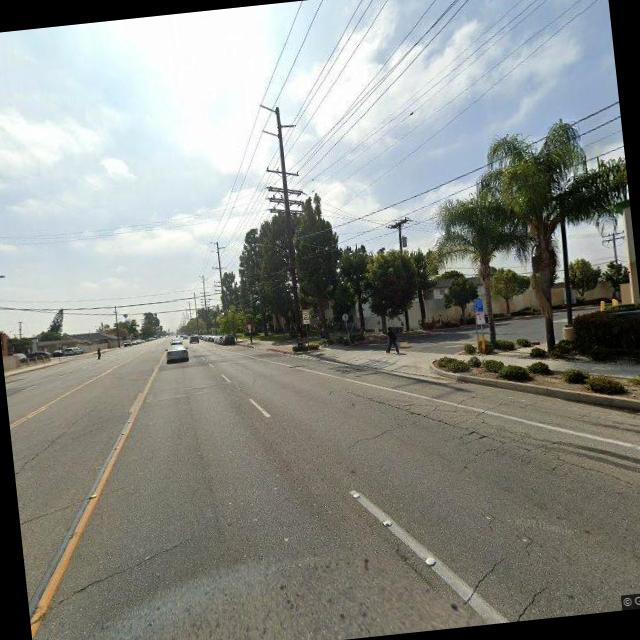crack: (356, 369, 640, 507), (32, 536, 200, 607), (17, 492, 94, 532), (460, 552, 512, 600), (504, 580, 554, 621)
